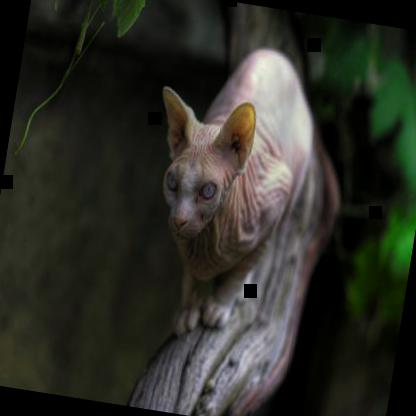cat: (124, 34, 326, 352)
